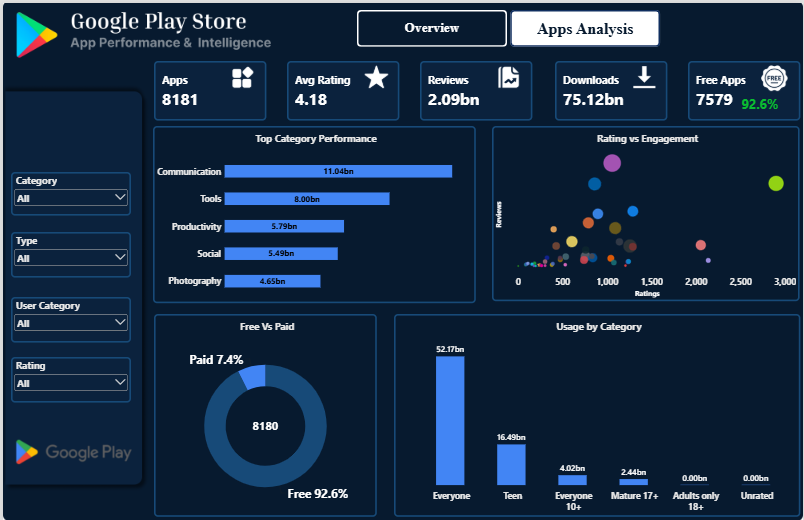

The page's visual inventory and layout, read from the dashboard file:
{"tool":"powerbi","page":{"name":"Overview","canvas":[2000,1300],"ordinal":0},"visuals":[{"type":"cardVisual","fields":{"Data":["Measures (2).Total Apps"]},"box":[376.4,144.7,281.2,148.6],"z":0},{"type":"slicer","fields":{"Values":["GooglePlayStore.Type"]},"box":[21.2,573.1,299.8,114.1],"z":0},{"type":"cardVisual","fields":{"Data":["Measures (2).Total Reviews"]},"box":[1042.9,144.7,281.2,148.6],"z":1000},{"type":"slicer","fields":{"Values":["GooglePlayStore.Genres"]},"box":[21.2,421.8,299.8,108.8],"z":1000},{"type":"cardVisual","fields":{"Data":["Measures (2).Free Apps"]},"box":[1711.8,144.7,281.2,148.6],"z":2000},{"type":"slicer","fields":{"Values":["GooglePlayStore.Rating"]},"box":[21.2,886.1,299.8,114.1],"z":2000},{"type":"cardVisual","fields":{"Data":["Measures (2).Total Installs"]},"box":[1380.9,144.7,281.2,148.6],"z":3000},{"type":"slicer","fields":{"Values":["GooglePlayStore.Content Rating"]},"box":[21.2,734.9,299.8,114.1],"z":3000},{"type":"cardVisual","fields":{"Data":["Measures (2).Average Rating"]},"box":[709.6,144.7,281.2,148.6],"z":4000},{"type":"cardVisual","fields":{"Data":["Measures (2).Free App %"]},"box":[1829,205,140.6,95.5],"z":5000},{"type":"image","box":[556.5,153.3,82.2,66.3],"z":6000},{"type":"image","box":[893.5,153.3,82.2,66.3],"z":7000},{"type":"image","box":[1887,154,82.2,66.3],"z":8000},{"type":"image","box":[1562,153.3,82.2,66.3],"z":9000},{"type":"image","box":[1222.4,153.3,82.2,66.3],"z":10000},{"type":"clusteredBarChart","title":"Top Category Performance","fields":{"Category":["GooglePlayStore.Genres"],"Y":["Measures (2).Total Installs"]},"box":[376.1,307.1,806.5,443.1],"z":11000},{"type":"scatterChart","title":"Rating vs Engagement","fields":{"X":["Sum(GooglePlayStore.Rating)"],"Y":["Sum(GooglePlayStore.Reviews)"],"Size":["Sum(GooglePlayStore.Installs)"],"Series":["GooglePlayStore.Genres"]},"box":[1222.4,307.1,769.4,437.8],"z":12000},{"type":"donutChart","title":"Free Vs Paid","fields":{"Category":["GooglePlayStore.Type"],"Y":["Measures (2).Total Apps"]},"box":[376.7,777.3,557.1,506.7],"z":13000},{"type":"pageNavigator","box":[886.1,18.6,758.8,92.9],"z":13001},{"type":"clusteredColumnChart","title":"Usage by Category","fields":{"Category":["GooglePlayStore.Content Rating"],"Y":["Measures (2).Total Installs"]},"box":[976.3,777.3,1016.1,506.7],"z":13002}]}

Visuals, with their boxes in screenshot pixels (x1, y1, x2, y2), scaled from the page's 2000x1300 canvas onto the 804x520 screenshot:
cardVisual - Measures (2).Total Apps: <region>151, 58, 264, 117</region>
slicer - GooglePlayStore.Type: <region>9, 229, 129, 275</region>
cardVisual - Measures (2).Total Reviews: <region>419, 58, 532, 117</region>
slicer - GooglePlayStore.Genres: <region>9, 169, 129, 212</region>
cardVisual - Measures (2).Free Apps: <region>688, 58, 801, 117</region>
slicer - GooglePlayStore.Rating: <region>9, 354, 129, 400</region>
cardVisual - Measures (2).Total Installs: <region>555, 58, 668, 117</region>
slicer - GooglePlayStore.Content Rating: <region>9, 294, 129, 340</region>
cardVisual - Measures (2).Average Rating: <region>285, 58, 398, 117</region>
cardVisual - Measures (2).Free App %: <region>735, 82, 792, 120</region>
image: <region>224, 61, 257, 88</region>
image: <region>359, 61, 392, 88</region>
image: <region>759, 62, 792, 88</region>
image: <region>628, 61, 661, 88</region>
image: <region>491, 61, 524, 88</region>
"Top Category Performance" clusteredBarChart: <region>151, 123, 475, 300</region>
"Rating vs Engagement" scatterChart: <region>491, 123, 801, 298</region>
"Free Vs Paid" donutChart: <region>151, 311, 375, 514</region>
pageNavigator: <region>356, 7, 661, 45</region>
"Usage by Category" clusteredColumnChart: <region>392, 311, 801, 514</region>
